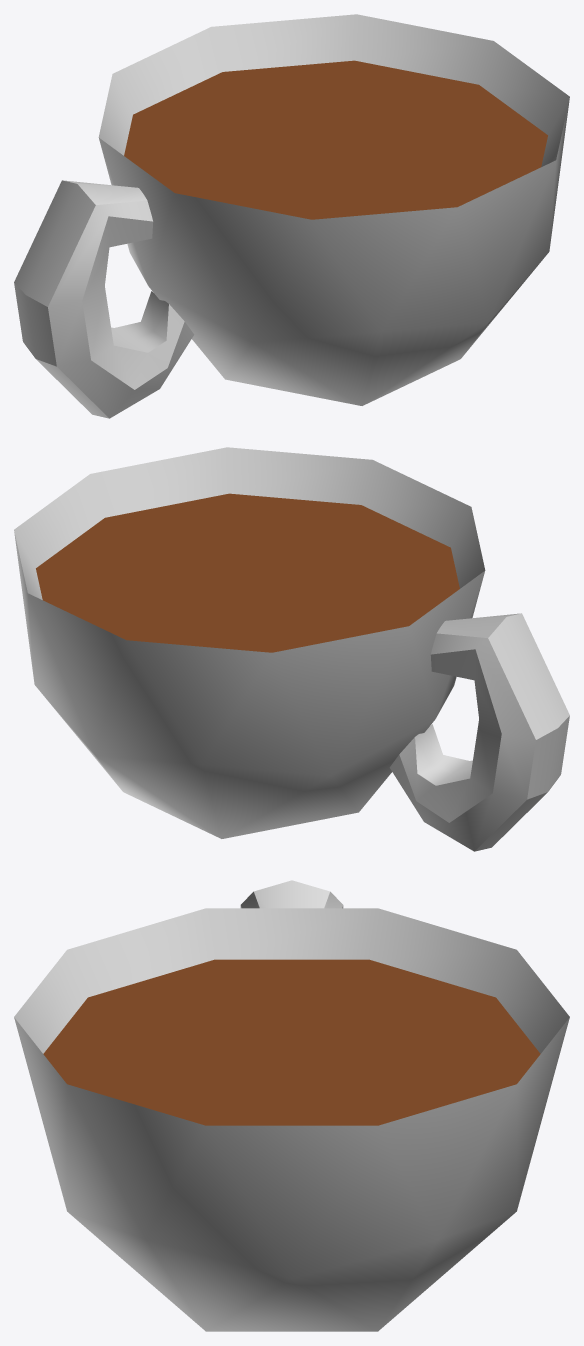
Rendered from CoffeMug.fbx.
3 renders of one model, top to bottom at view 1: azimuth 30°, elevation 25°; view 2: azimuth 150°, elevation 25°; view 3: azimuth 270°, elevation 25°, orthographic. The views are drawn at different scales.
Parts seen in each view (by area): view 1: Icosphere; view 2: Icosphere; view 3: Icosphere.
Part boxes in pixels (x1,y1,x2,y2): Icosphere: [14, 14, 569, 418]; Icosphere: [14, 447, 569, 851]; Icosphere: [14, 880, 569, 1331].
Bounding box in the file's own units: 191 × 100 × 161.
